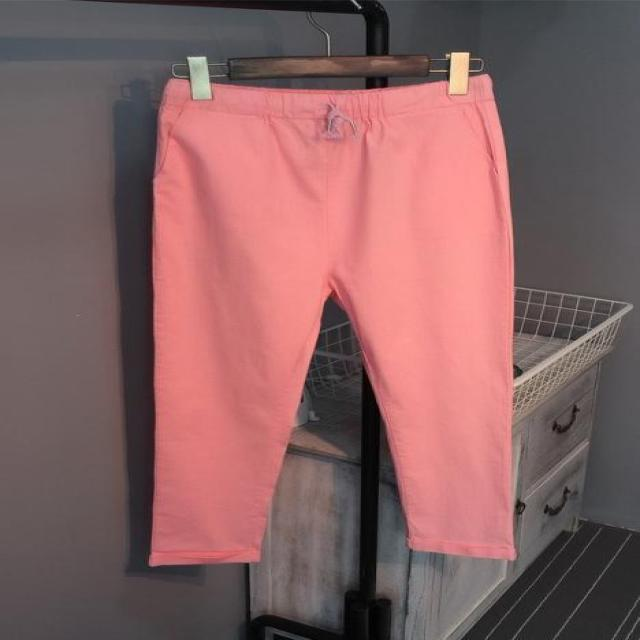trousers: (152, 77, 513, 563)
